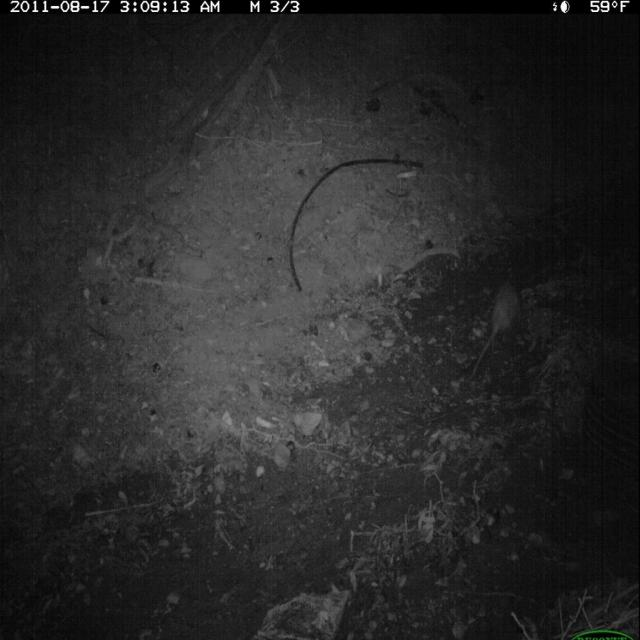opossum: (467, 272, 537, 387)
